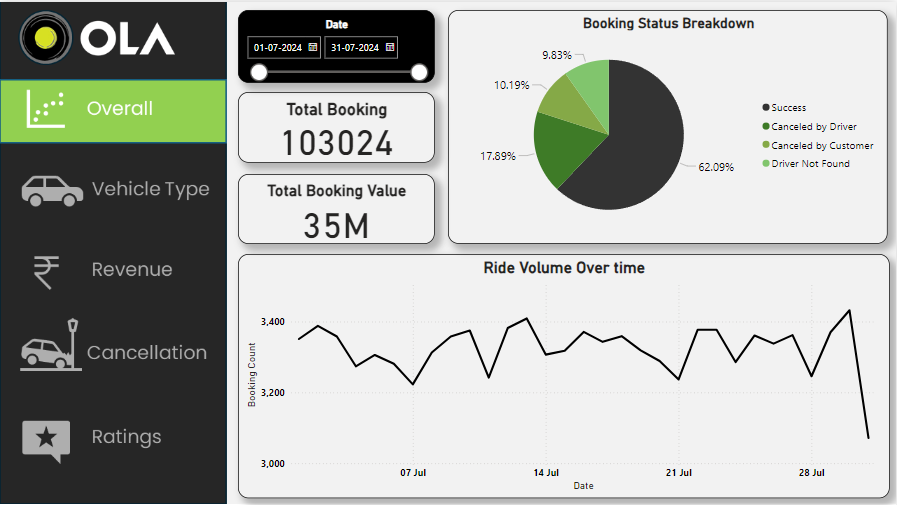

The dashboard page shown, as its layout file describes it:
{"tool":"powerbi","page":{"name":"OVERALL","canvas":[1280,720],"ordinal":0},"visuals":[{"type":"actionButton","box":[0,199.9,325.1,110.8],"z":0},{"type":"actionButton","box":[0,323.9,325.1,99.9],"z":1000},{"type":"actionButton","box":[0,432.2,325.1,112],"z":2000},{"type":"actionButton","box":[0,552.6,325.1,125.2],"z":3000},{"type":"lineChart","title":"Ride Volume Over time","fields":{"Y":["CountNonNull(July.Booking_ID)"],"Category":["July.Date"]},"box":[339.5,360,930.7,349.2],"z":4000},{"type":"pieChart","title":"Booking Status Breakdown","fields":{"Category":["July.Booking_Status"],"Y":["CountNonNull(July.Booking_Status)"]},"box":[640.5,12,628.5,333.5],"z":5000},{"type":"slicer","title":"Date","fields":{"Values":["July.Date"]},"box":[339.5,12,280.5,103.5],"z":6000},{"type":"card","title":" Total Booking ","fields":{"Values":["Count(July.Booking_ID)"]},"box":[339.5,128.8,280.5,101.1],"z":7000},{"type":"card","title":" Total Booking Value","fields":{"Values":["Sum(July.Booking_Value)"]},"box":[339.5,245.6,280.5,99.9],"z":8000}]}

Visuals, with their boxes in screenshot pixels (x1, y1, x2, y2), scaled from the page's 1280x720 canvas onto the 897x505 screenshot:
actionButton: bbox=(0, 140, 228, 218)
actionButton: bbox=(0, 227, 228, 297)
actionButton: bbox=(0, 303, 228, 382)
actionButton: bbox=(0, 388, 228, 475)
"Ride Volume Over time" lineChart: bbox=(238, 252, 890, 497)
"Booking Status Breakdown" pieChart: bbox=(449, 8, 889, 242)
"Date" slicer: bbox=(238, 8, 434, 81)
" Total Booking " card: bbox=(238, 90, 434, 161)
" Total Booking Value" card: bbox=(238, 172, 434, 242)
